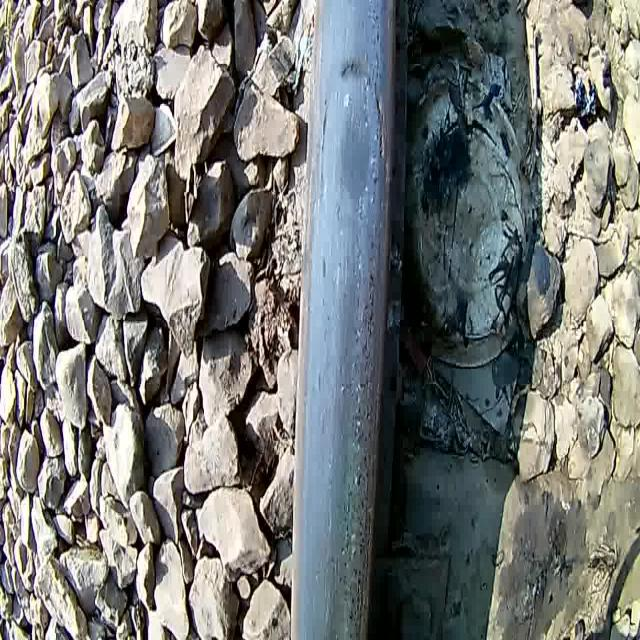Squats: (272, 0, 421, 640)
